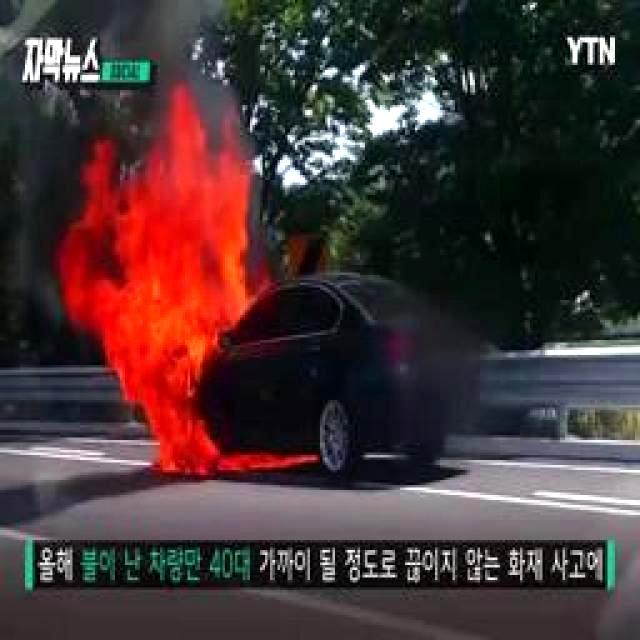fire: (93, 124, 241, 476)
